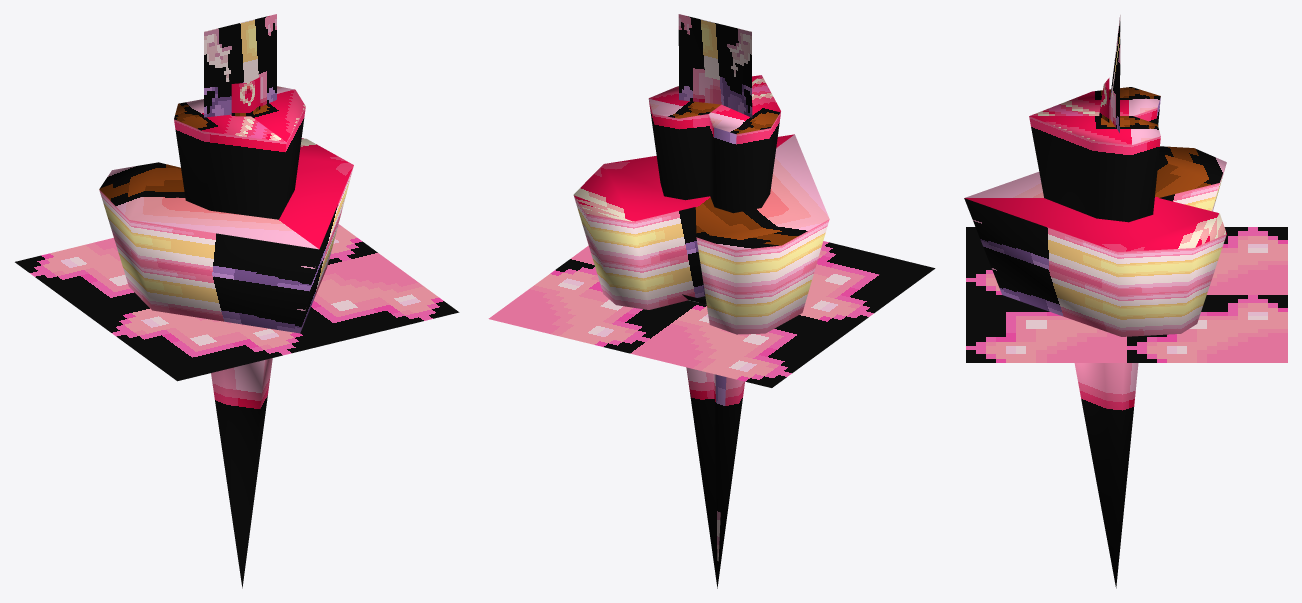
3 views of the same model, side by side, from view 1: azimuth 30°, elevation 25°; view 2: azimuth 150°, elevation 25°; view 3: azimuth 270°, elevation 25° (orthographic).
Visible parts, largest first — view 1: 5638ucc_ac_cake; view 2: 5638ucc_ac_cake; view 3: 5638ucc_ac_cake.
Part boxes in pixels (x1,y1,x2,y2): 5638ucc_ac_cake: (15, 14, 459, 588); 5638ucc_ac_cake: (488, 14, 935, 588); 5638ucc_ac_cake: (964, 15, 1287, 588).
Bounding box in the file's own units: 0.7222 × 1.38 × 0.7266.
Materials: 4 (4 with a texture image).
